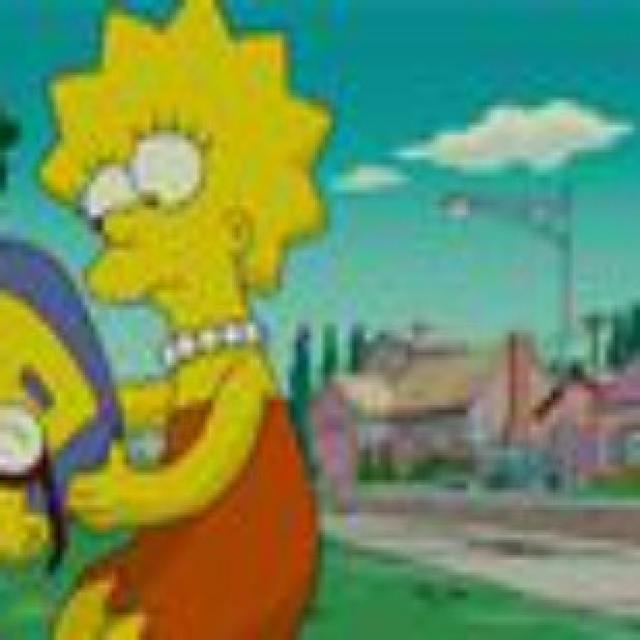Lisa Simpson: (30, 1, 339, 344)
